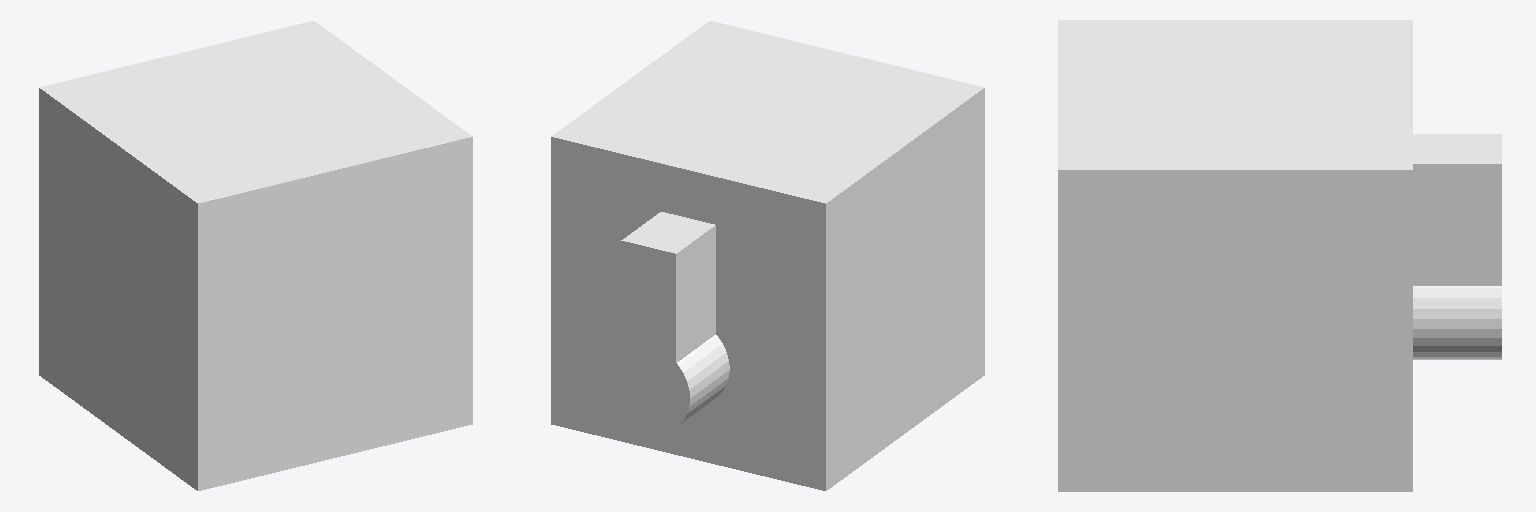
robot.urdf — Key_cube_cap:
<?xml version="1.0" ?>
<robot name="Key_cube_cap">
  <link name="baseLink">
    <contact>
    	<friction_anchor/>
    	   <lateral_friction value="1.0"/>
    </contact>
    <inertial>
      <origin rpy="0 0 0" xyz="0 0 0"/>
       <!-- mass controls penetration -->
       <mass value=".5"/>
       <inertia ixx="1e-4" ixy="0" ixz="0" iyy="1e-4" iyz="0" izz="1e-4"/>
    </inertial>
    <visual>
      <origin rpy="0 0 0" xyz="0 0 0"/>
      <geometry>
        <mesh filename="Key_cube_cap.obj"/>
      </geometry>
       <material name="white">
        <color rgba="1 1 1 1"/>
      </material>
    </visual>
    <collision>
      <origin rpy="0 0 0" xyz="0 0 0"/>
      <geometry>
        <mesh filename="Key_cube_cap.obj"/>
      </geometry>
    </collision>
  </link>
</robot>

--- What the picture shows (computed from the rendered views, not written in the file) ---
The picture shows the robot from 3 angles, left to right: view 1: azimuth 30°, elevation 25°; view 2: azimuth 150°, elevation 25°; view 3: azimuth 270°, elevation 25°; orthographic projection.
Robot: Key_cube_cap — 1 links, 0 joints (none); root link baseLink; default pose: all joints at 0.
Links seen in each view (by area): view 1: baseLink; view 2: baseLink; view 3: baseLink.
Link boxes in pixels (bbox=[...]): baseLink: bbox=[39, 21, 472, 490]; baseLink: bbox=[551, 21, 984, 490]; baseLink: bbox=[1058, 20, 1501, 491].
Size in the robot's own frame: 0.08 by 0.1 by 0.08 metres.
Meshes: 1 distinct files referenced, 1 mesh visuals loaded (1 OBJ).